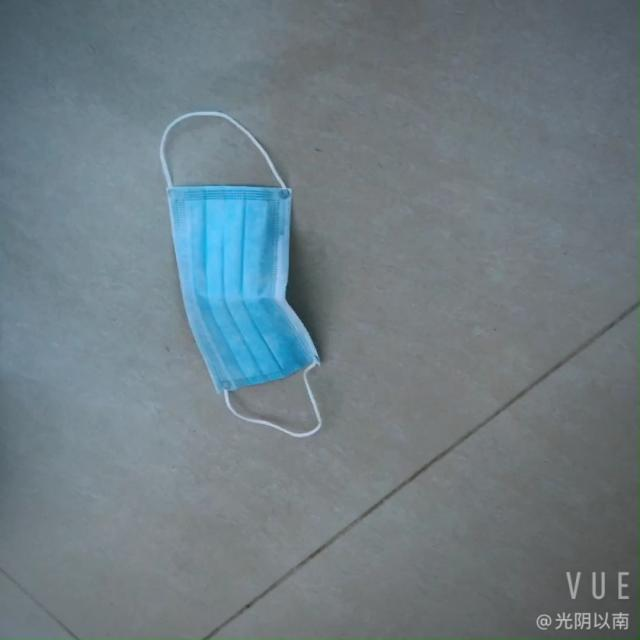non-organic waste: (151, 125, 337, 424)
